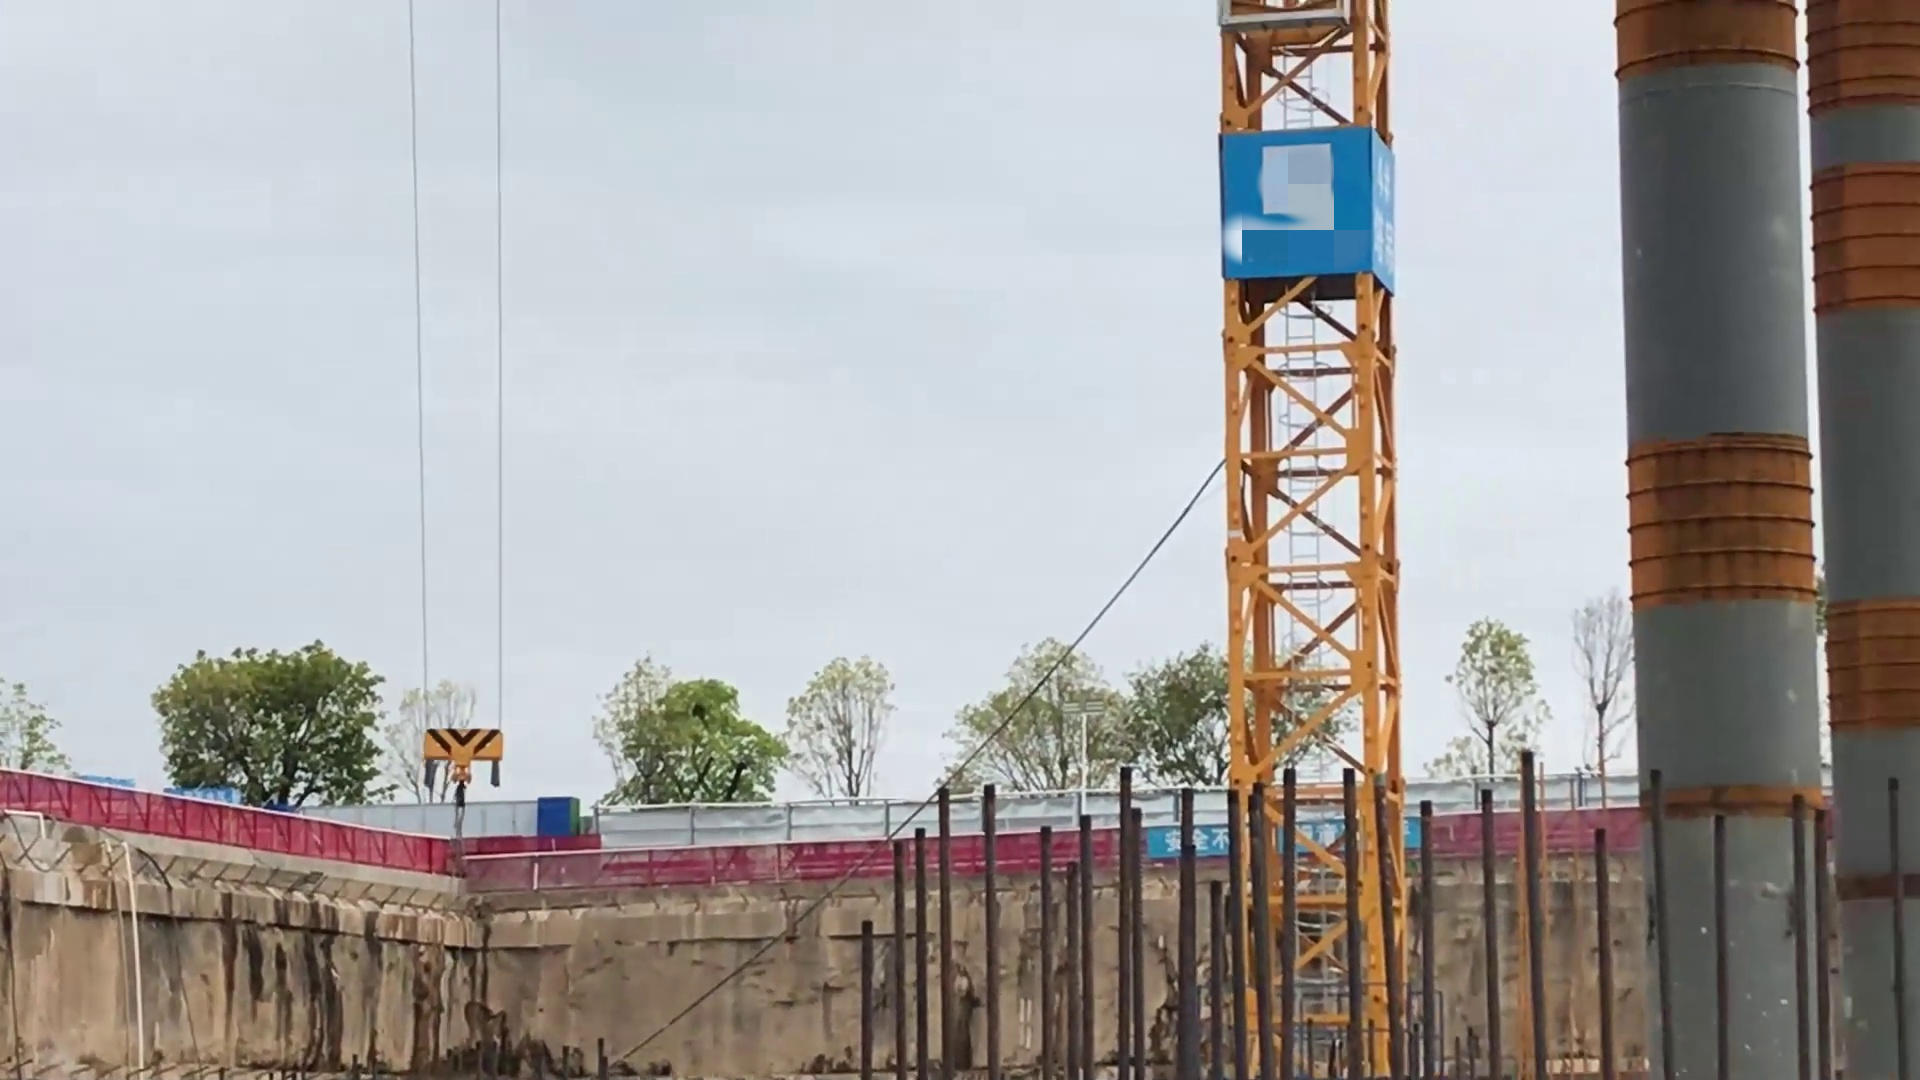hook: (410, 716, 512, 823)
